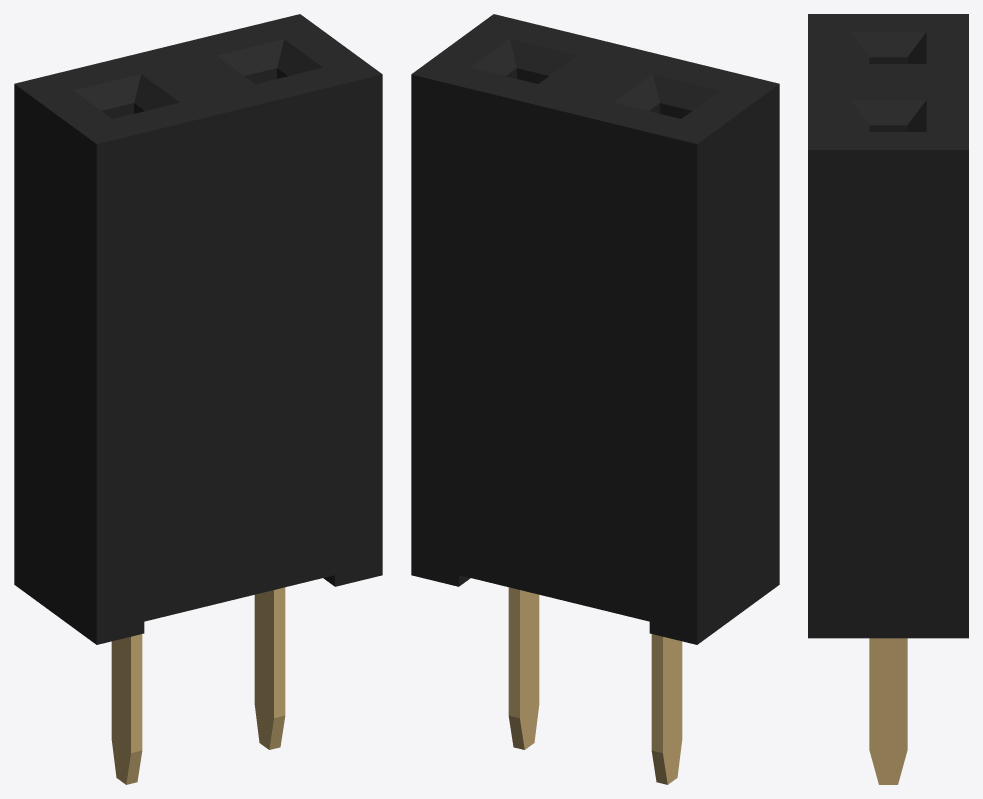
File: PinSocket_2x01_P2.54mm_Vertical.glb
3 views of the same model, side by side, from view 1: azimuth 30°, elevation 25°; view 2: azimuth 150°, elevation 25°; view 3: azimuth 270°, elevation 25° (orthographic). The views are drawn at different scales.
Parts seen in each view (by area): view 1: =>[0:1:1:3]; view 2: =>[0:1:1:3]; view 3: =>[0:1:1:3].
Boxes of the visible parts, <box> form: =>[0:1:1:3]: <box>14,14,382,784</box>; =>[0:1:1:3]: <box>411,14,779,784</box>; =>[0:1:1:3]: <box>808,14,968,784</box>.
Size of the model in its own units: 0.00508 by 0.0116 by 0.00254.
